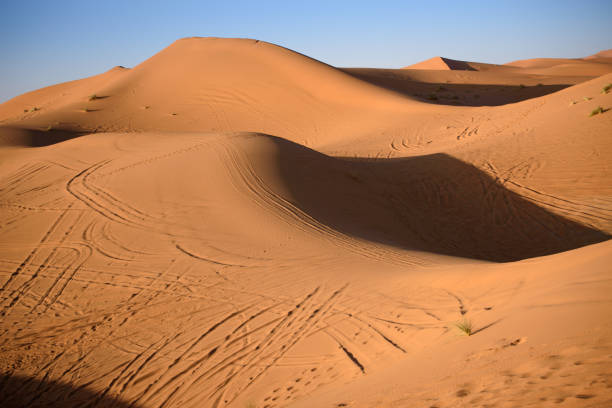vehicle_track: (215, 143, 424, 265), (135, 287, 343, 406), (228, 285, 347, 402), (133, 303, 254, 403), (38, 291, 158, 380), (0, 204, 83, 315), (484, 161, 611, 221), (88, 333, 179, 407), (66, 159, 159, 228), (1, 244, 90, 315), (0, 206, 70, 292), (96, 135, 216, 177), (197, 88, 299, 134), (30, 244, 91, 313), (73, 265, 179, 293), (345, 312, 406, 352), (82, 219, 134, 261), (100, 221, 153, 256), (324, 328, 365, 373), (0, 162, 50, 197), (175, 243, 247, 267), (0, 211, 31, 231)
